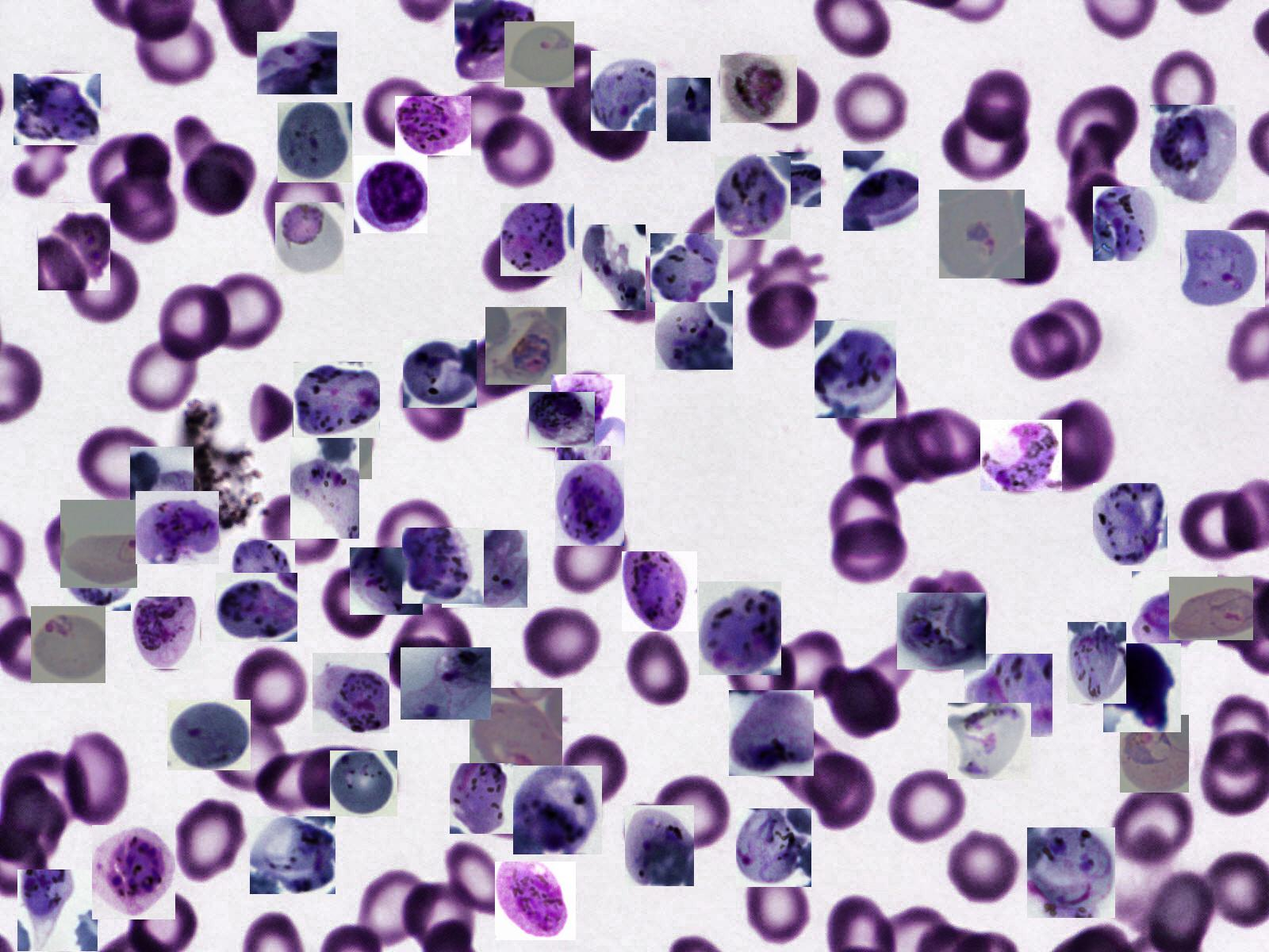Infected: (1150, 105, 1236, 204), (470, 689, 562, 781), (1027, 827, 1115, 918), (815, 321, 896, 418), (513, 766, 602, 854), (92, 825, 175, 919), (699, 582, 781, 675), (939, 190, 1025, 278), (729, 690, 814, 776), (964, 654, 1052, 737), (290, 437, 359, 539), (1103, 643, 1181, 732), (1132, 571, 1217, 652), (454, 1, 539, 82), (897, 593, 986, 670), (60, 500, 137, 588), (17, 869, 98, 951), (442, 530, 527, 608), (250, 816, 335, 894), (293, 362, 380, 438), (401, 647, 491, 720), (1180, 230, 1265, 307), (715, 156, 791, 240), (495, 862, 576, 940), (485, 307, 566, 385), (948, 703, 1031, 779), (38, 203, 110, 290), (402, 528, 484, 604), (14, 74, 101, 145), (655, 291, 733, 370), (312, 653, 389, 733), (1093, 483, 1167, 566), (293, 402, 372, 479), (136, 491, 219, 564), (622, 551, 697, 631), (843, 151, 918, 231), (555, 395, 611, 502), (555, 460, 624, 546), (736, 808, 811, 887), (278, 102, 352, 182), (65, 530, 138, 611), (167, 700, 251, 770), (980, 420, 1062, 491), (31, 606, 105, 683), (354, 155, 427, 233), (216, 573, 297, 642), (625, 805, 694, 886), (582, 225, 646, 310), (500, 203, 574, 276), (1120, 715, 1189, 793), (651, 233, 729, 302), (551, 374, 625, 446), (1093, 186, 1164, 261), (1169, 577, 1253, 640), (721, 55, 798, 123), (591, 51, 656, 131), (131, 447, 194, 529), (403, 340, 477, 408), (131, 597, 200, 669), (275, 203, 344, 275), (350, 547, 423, 615), (257, 32, 337, 94), (450, 763, 517, 834), (1068, 622, 1126, 704), (504, 21, 574, 87), (395, 96, 471, 155), (330, 750, 397, 816), (232, 540, 295, 605), (529, 392, 595, 447), (757, 152, 821, 207), (667, 78, 711, 141)
Uninfected: (363, 74, 466, 159), (48, 727, 132, 827), (78, 427, 178, 509), (199, 267, 289, 355), (682, 194, 775, 279), (1106, 779, 1194, 868), (1055, 83, 1142, 169), (3, 749, 89, 836), (230, 643, 310, 735), (975, 204, 1061, 289), (351, 866, 436, 951), (174, 793, 251, 884), (131, 3, 215, 86), (1022, 403, 1100, 492), (9, 106, 86, 196), (56, 243, 139, 326), (263, 162, 343, 248), (392, 603, 470, 691), (88, 132, 169, 216), (373, 498, 458, 578), (518, 600, 605, 678), (840, 367, 913, 457), (257, 489, 338, 570), (769, 725, 849, 807), (1179, 487, 1265, 563), (888, 767, 967, 849), (477, 107, 554, 190), (205, 716, 286, 794), (1148, 48, 1223, 132), (605, 251, 689, 326), (552, 506, 627, 589), (646, 774, 731, 847), (945, 826, 1022, 906), (552, 734, 627, 816), (833, 71, 915, 146), (470, 766, 554, 839), (830, 475, 904, 557), (853, 417, 922, 504), (945, 107, 1029, 178), (479, 225, 565, 294), (823, 666, 901, 742), (129, 339, 209, 412), (448, 843, 521, 923), (156, 282, 232, 358), (558, 75, 631, 154), (622, 628, 693, 708), (771, 631, 846, 706), (883, 410, 955, 488), (542, 44, 613, 123), (803, 752, 875, 829), (908, 405, 985, 477), (745, 868, 814, 948), (440, 89, 524, 154), (722, 638, 794, 712), (320, 564, 390, 640), (399, 364, 468, 441), (745, 63, 822, 132), (832, 517, 911, 584), (102, 172, 174, 245), (743, 281, 816, 352), (1053, 399, 1115, 482), (961, 71, 1032, 143), (1029, 301, 1101, 372), (1005, 312, 1077, 380), (299, 746, 372, 812), (263, 752, 339, 814), (403, 880, 477, 943), (192, 143, 258, 206), (482, 324, 542, 393), (588, 89, 647, 159), (182, 156, 248, 216)
